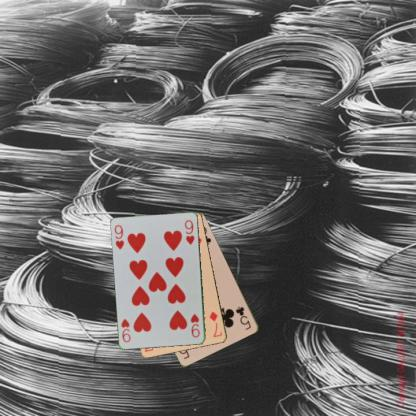5c: (234, 304, 252, 331)
7d: (207, 308, 224, 338)
9h: (112, 222, 125, 251), (188, 312, 201, 338)
